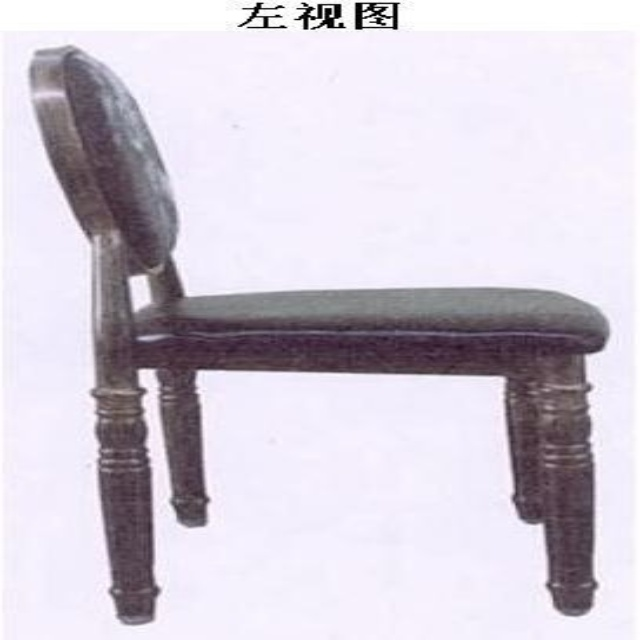obstacle: (31, 46, 607, 623)
